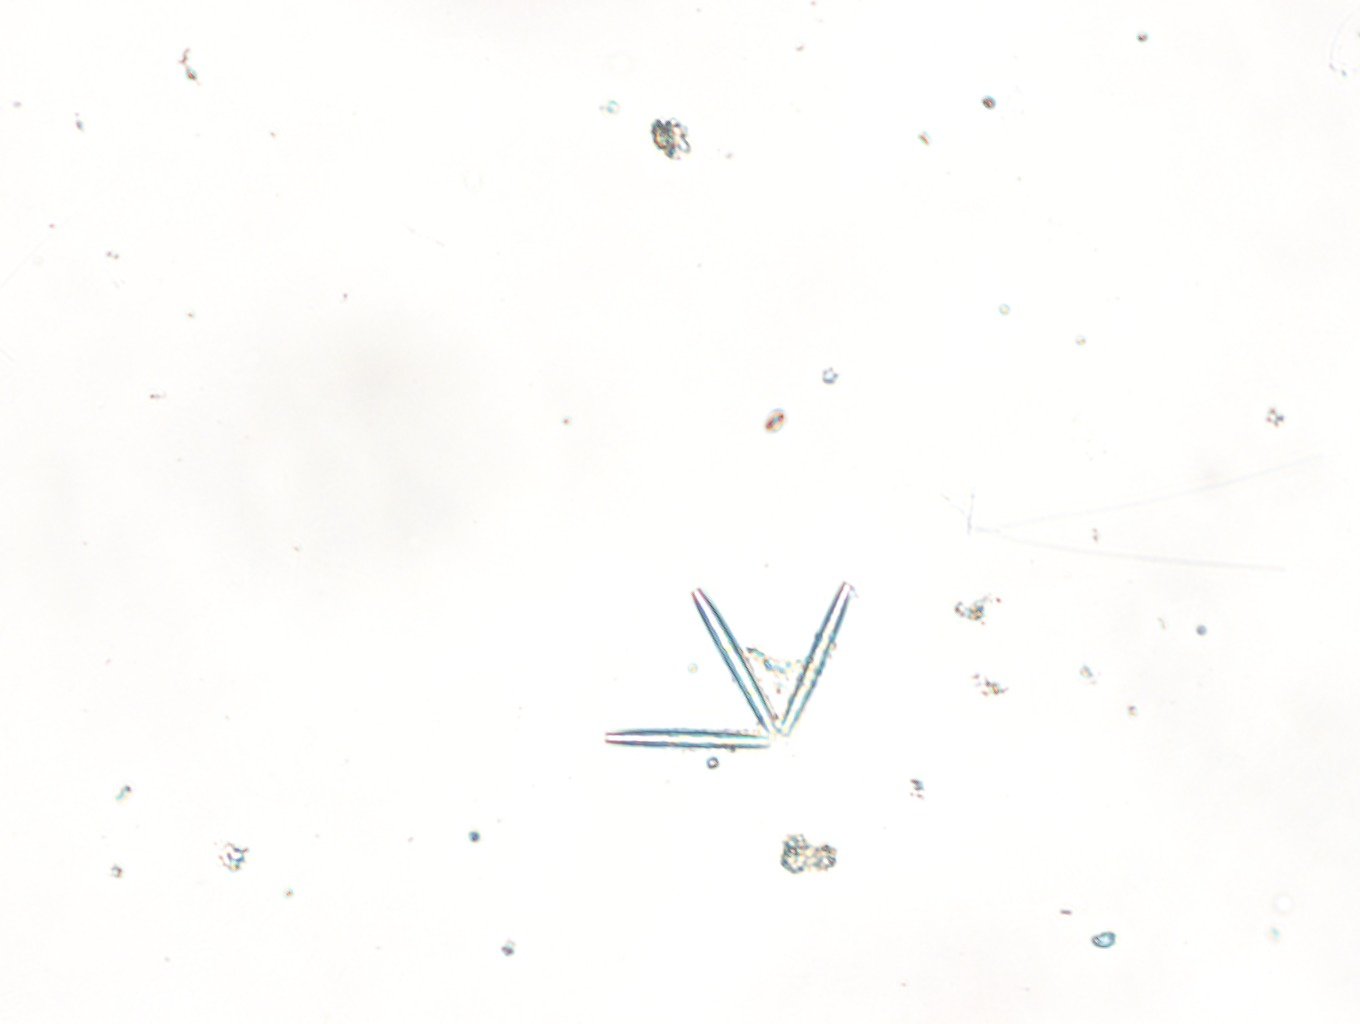thalassionema nitzschioides: (601, 580, 851, 750)
